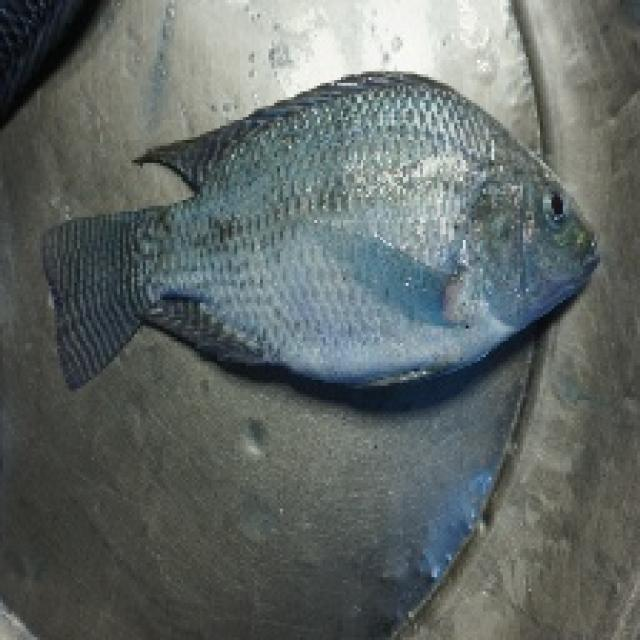Fresh: (155, 72, 618, 399)
